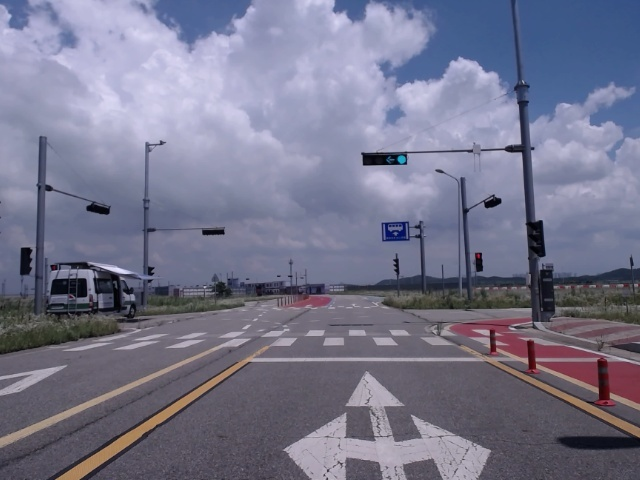all_green_4: (362, 151, 407, 165)
